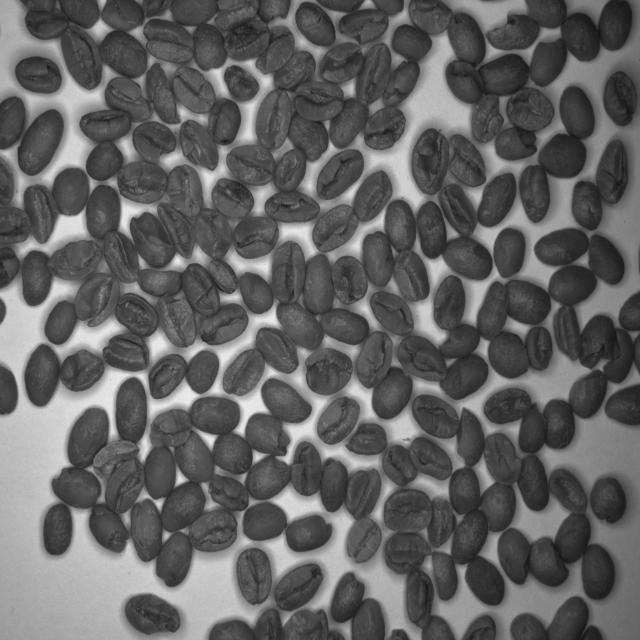bad: (128, 209, 177, 269), (60, 24, 104, 90), (410, 127, 450, 196), (124, 591, 182, 638), (396, 333, 448, 385), (74, 270, 120, 328), (153, 290, 198, 348), (575, 308, 615, 372), (310, 202, 360, 253), (304, 344, 354, 395), (355, 41, 393, 107), (409, 391, 459, 441), (313, 393, 360, 446), (143, 18, 194, 66), (595, 137, 631, 205), (255, 86, 292, 152), (154, 203, 196, 261), (315, 150, 365, 198), (483, 430, 523, 490), (382, 488, 432, 536), (276, 560, 324, 610), (116, 158, 168, 204), (255, 322, 300, 375), (526, 534, 570, 588), (446, 130, 488, 186), (178, 116, 220, 172), (46, 238, 102, 280), (170, 64, 216, 115), (174, 430, 214, 488), (506, 84, 554, 132), (145, 60, 181, 124), (244, 410, 292, 458), (103, 76, 154, 121), (197, 302, 249, 346), (106, 457, 146, 514), (371, 368, 413, 422), (245, 452, 292, 500), (181, 260, 221, 316), (273, 236, 305, 306), (587, 230, 627, 286), (23, 182, 60, 242), (114, 292, 160, 340), (369, 289, 415, 337), (294, 77, 344, 121), (496, 526, 532, 587), (351, 168, 393, 220), (130, 498, 162, 566), (448, 11, 486, 68), (102, 228, 140, 285), (476, 171, 516, 225), (226, 142, 275, 186), (222, 346, 265, 396), (167, 160, 204, 218), (51, 466, 102, 508), (88, 503, 129, 555), (484, 12, 540, 50), (439, 182, 477, 238), (154, 532, 192, 588), (357, 329, 393, 388), (131, 119, 177, 165), (408, 434, 452, 482), (384, 531, 432, 575), (518, 163, 552, 225), (476, 279, 510, 341), (283, 510, 333, 552), (189, 511, 239, 553), (344, 466, 382, 521), (262, 187, 320, 223), (236, 547, 272, 605), (381, 56, 421, 108), (530, 33, 568, 87), (590, 473, 628, 527), (329, 254, 368, 306), (60, 347, 105, 392), (233, 214, 279, 258), (432, 273, 466, 332), (254, 24, 294, 74), (548, 467, 588, 517), (196, 206, 233, 260), (604, 66, 637, 126), (294, 1, 336, 48), (328, 569, 364, 623), (320, 40, 364, 84), (148, 406, 193, 449), (146, 352, 188, 398), (480, 387, 532, 424), (15, 55, 63, 95), (92, 437, 140, 477), (456, 405, 485, 471), (602, 325, 634, 384), (444, 58, 484, 105), (394, 250, 430, 302), (551, 304, 583, 362), (211, 178, 255, 220), (78, 108, 132, 142), (291, 439, 322, 498), (101, 334, 149, 372), (274, 48, 317, 90), (206, 96, 242, 146), (405, 568, 435, 628), (320, 454, 350, 514), (222, 21, 270, 58), (469, 91, 503, 143), (364, 108, 406, 150), (346, 520, 384, 566), (42, 502, 74, 556), (348, 418, 390, 459), (338, 10, 388, 44), (208, 472, 250, 512), (271, 146, 307, 192), (381, 442, 417, 488), (408, 0, 452, 37), (493, 125, 538, 161), (517, 400, 547, 454), (283, 604, 328, 640), (438, 322, 480, 360), (392, 23, 434, 61), (430, 550, 460, 602), (222, 62, 260, 102), (524, 324, 554, 374), (138, 266, 182, 300), (24, 8, 70, 40), (428, 492, 454, 548), (100, 0, 144, 33), (0, 203, 31, 245), (213, 0, 259, 28), (523, 1, 567, 30), (251, 605, 284, 640), (459, 611, 497, 640), (0, 243, 20, 292), (257, 0, 293, 23), (0, 155, 16, 206)
good: (16, 106, 65, 174), (66, 402, 109, 470), (274, 298, 324, 351), (259, 377, 313, 426), (438, 352, 492, 401), (158, 479, 206, 534), (536, 130, 588, 180), (99, 29, 148, 82), (24, 341, 62, 408), (440, 236, 493, 282), (188, 392, 242, 437), (502, 276, 552, 324), (533, 223, 588, 266), (115, 376, 148, 446), (83, 180, 122, 238), (553, 508, 592, 566), (477, 53, 530, 95), (286, 112, 328, 164), (329, 95, 370, 148), (581, 542, 617, 602), (548, 263, 598, 306), (567, 368, 609, 419), (488, 327, 528, 380), (450, 508, 489, 562), (383, 196, 418, 256), (320, 304, 370, 346), (559, 84, 595, 142), (560, 12, 600, 64), (478, 479, 516, 533), (303, 252, 335, 316), (465, 556, 505, 606), (416, 196, 448, 258), (518, 450, 550, 512), (20, 250, 54, 308), (547, 594, 589, 640), (144, 444, 177, 502), (54, 165, 90, 218), (542, 396, 576, 452), (362, 231, 394, 289), (597, 0, 634, 50), (240, 502, 288, 540), (213, 432, 254, 476), (192, 22, 228, 72), (604, 379, 640, 429), (491, 227, 525, 279), (84, 138, 124, 182), (348, 595, 386, 640), (237, 269, 274, 315), (42, 300, 78, 346), (572, 179, 604, 230), (0, 93, 27, 153), (187, 346, 219, 395), (448, 468, 482, 514), (169, 0, 219, 26), (210, 613, 256, 640), (209, 255, 238, 296), (0, 362, 19, 422), (510, 610, 548, 640), (421, 613, 455, 640)
